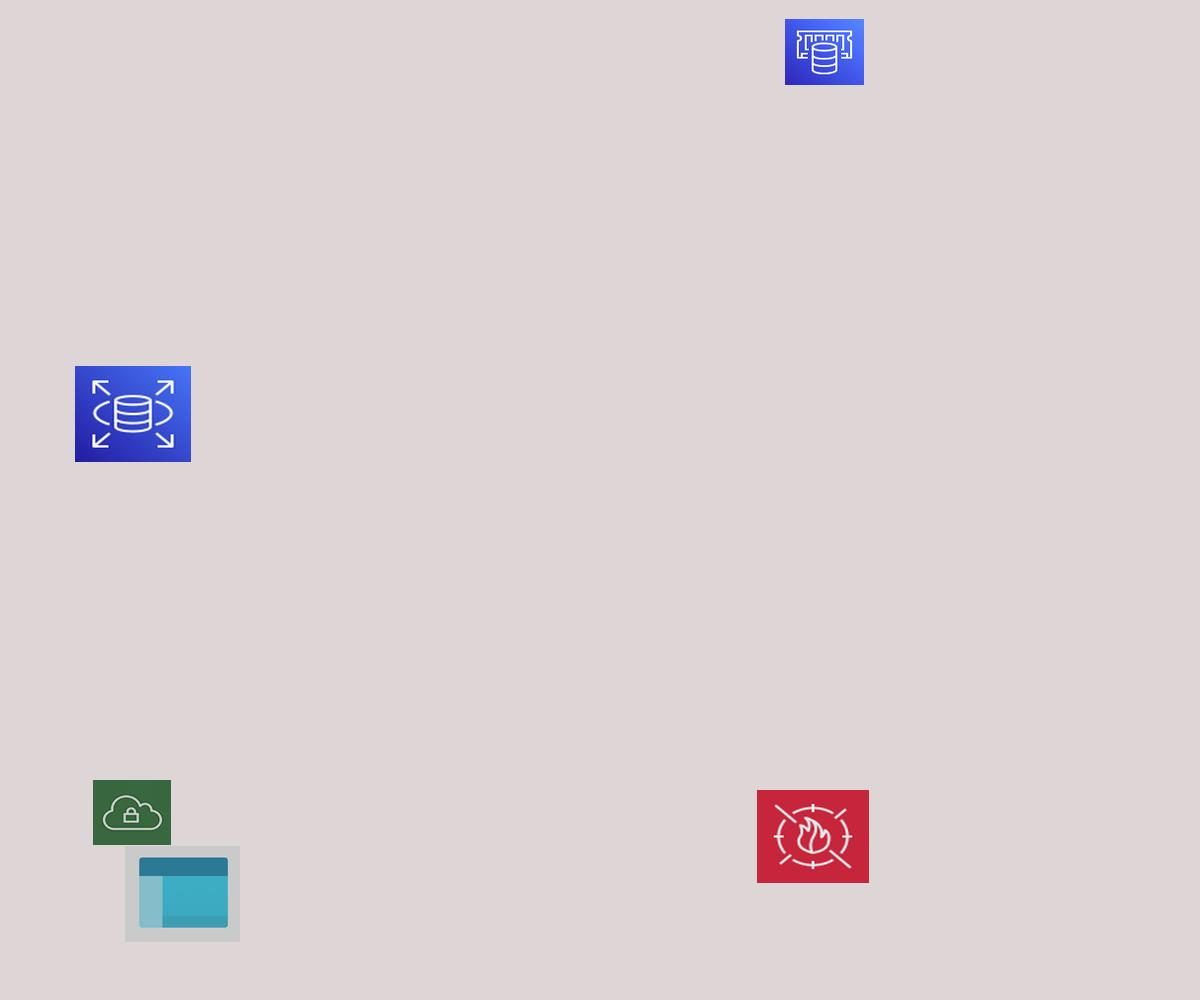AWS-ElastiCache: (785, 19, 864, 85)
AWS-Private_vpc: (93, 780, 171, 845)
AWS-RDS: (75, 366, 191, 462)
AWS-WAF: (757, 790, 869, 883)
Azure_management-portal: (125, 846, 240, 942)
